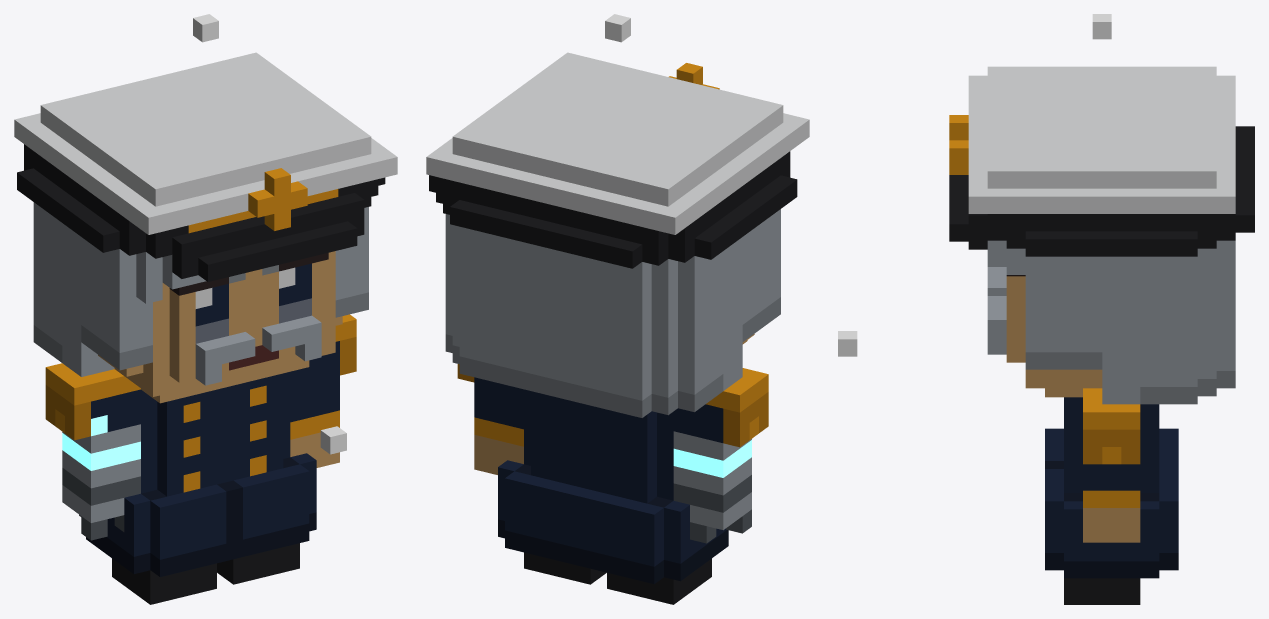
File: Char_AdmiralGotetsu.fbx
3 renders of one model, left to right at view 1: azimuth 30°, elevation 25°; view 2: azimuth 150°, elevation 25°; view 3: azimuth 270°, elevation 25°, orthographic.
Parts seen in each view (by area): view 1: Head, Torso, ArmR, ArmL, LegR, LegL, ArmR__Neon_4CC9F0, FrontMarker, TopMarker; view 2: Head, Torso, ArmR, ArmL, LegR, ArmR__Neon_4CC9F0, LegL, TopMarker; view 3: Head, Torso, ArmL, LegL.
Part boxes in pixels (box(x1,y1,x2,y2)): Head: box(14, 52, 397, 403); Torso: box(86, 372, 316, 576); ArmR: box(45, 363, 140, 540); ArmL: box(290, 314, 356, 467); LegR: box(112, 558, 216, 604); LegL: box(217, 543, 299, 584); ArmR__Neon_4CC9F0: box(62, 415, 140, 470); FrontMarker: box(320, 426, 346, 454); TopMarker: box(193, 14, 218, 42); Head: box(426, 52, 809, 417); Torso: box(498, 389, 728, 584); ArmR: box(673, 368, 768, 543); ArmL: box(457, 364, 523, 474); LegR: box(607, 558, 711, 604); ArmR__Neon_4CC9F0: box(673, 440, 751, 477); LegL: box(524, 552, 606, 584); TopMarker: box(605, 14, 630, 42); Head: box(949, 66, 1254, 404); Torso: box(1045, 397, 1178, 578); ArmL: box(1083, 388, 1140, 542); LegL: box(1064, 578, 1140, 604).
Bounding box in the file's own units: 3.19 × 5.97 × 4.09.
